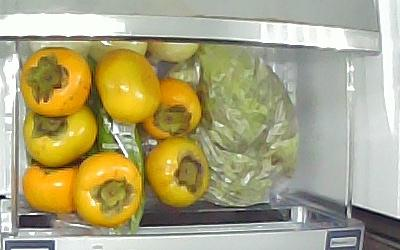persimmon: (75, 152, 142, 228), (95, 49, 162, 124), (21, 47, 91, 116), (147, 137, 209, 209), (24, 109, 98, 168), (143, 78, 202, 142), (22, 161, 79, 214)
